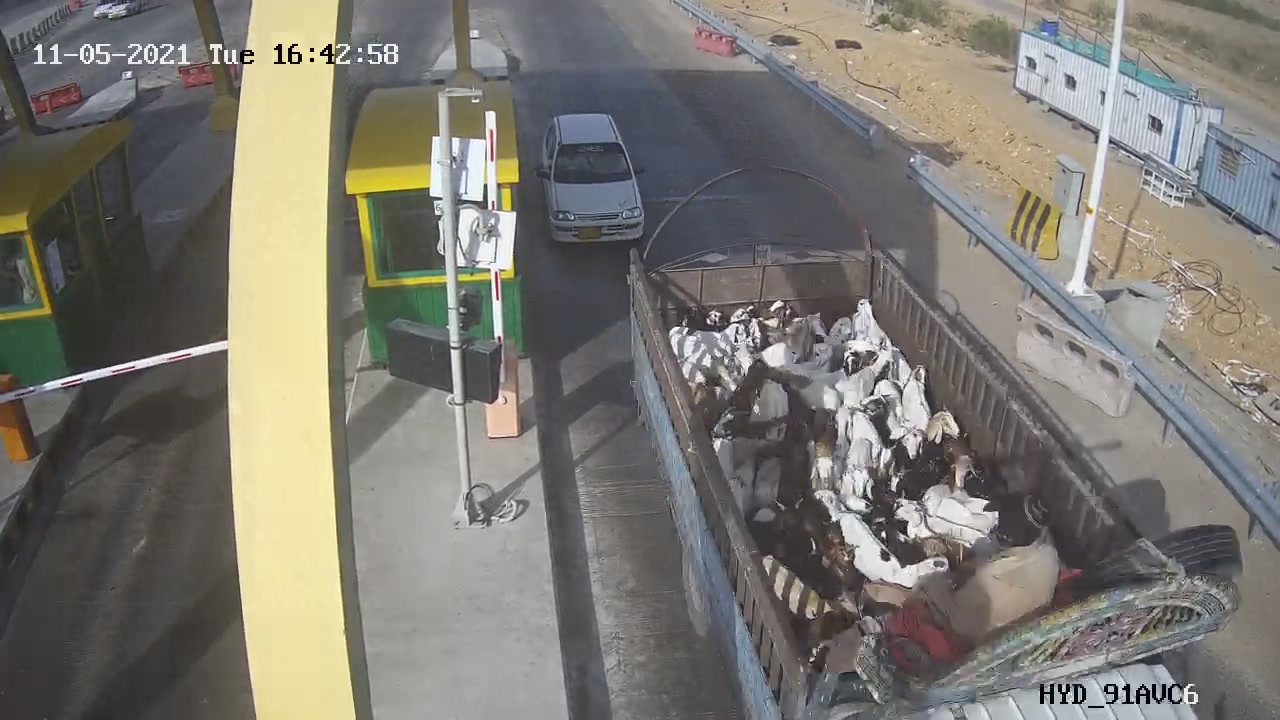F1: (520, 104, 670, 251)
